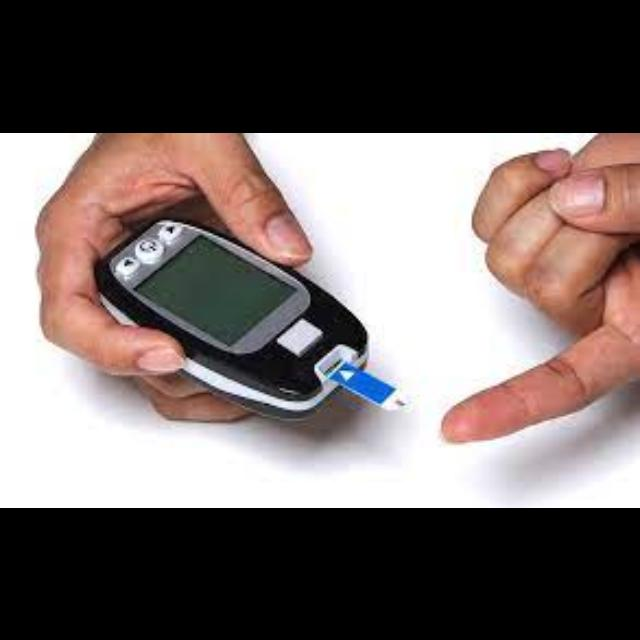Glucose-Meter: (96, 218, 406, 418)
